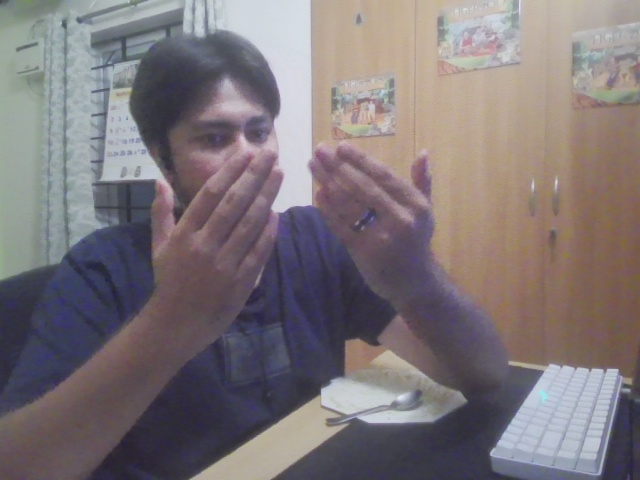thankyou: (144, 140, 443, 333)
